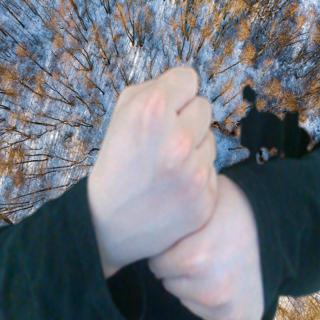CAREFUL: (77, 56, 266, 320)
